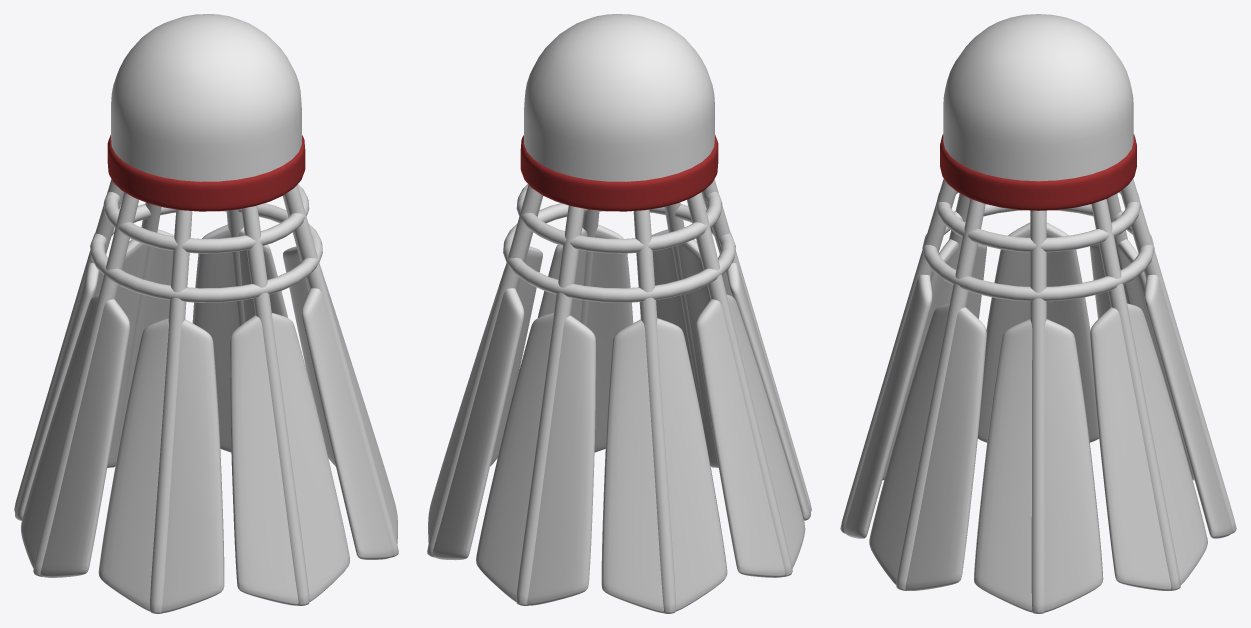
The model's file is shuttlecock.glb.
The picture shows the model from 3 angles, left to right: view 1: azimuth 30°, elevation 25°; view 2: azimuth 150°, elevation 25°; view 3: azimuth 270°, elevation 25°; orthographic projection.
Parts seen in each view (by area): view 1: Cylinder.115_19, Cube.278_0, Cube.281_3, Cube.279_1, Cube.285_7, Cylinder.001_8, Cylinder.114_18, Cube.283_5, Cylinder.108_12, Cylinder.111_15, Cube.282_4, Cylinder.112_16 (+6 smaller); view 2: Cylinder.115_19, Cube.280_2, Cube.282_4, Cube.279_1, Cube.283_5, Cylinder.001_8, Cylinder.114_18, Cube.285_7, Cylinder.105_9, Cylinder.109_13, Cube.281_3, Cylinder.112_16 (+6 smaller); view 3: Cylinder.115_19, Cube.284_6, Cube.285_7, Cube.283_5, Cube.279_1, Cylinder.001_8, Cylinder.114_18, Cube.281_3, Cube.282_4, Cylinder.110_14, Cylinder.106_10, Cylinder.107_11 (+4 smaller).
Part boxes in pixels (x1,y1,x2,y2): Cylinder.115_19: [111, 14, 301, 181]; Cube.278_0: [98, 318, 224, 612]; Cube.281_3: [230, 313, 349, 605]; Cube.279_1: [21, 294, 129, 577]; Cube.285_7: [301, 285, 397, 559]; Cylinder.001_8: [90, 184, 322, 302]; Cylinder.114_18: [107, 135, 305, 211]; Cube.283_5: [192, 224, 288, 452]; Cylinder.108_12: [149, 209, 192, 613]; Cylinder.111_15: [241, 205, 309, 605]; Cube.282_4: [107, 229, 174, 467]; Cylinder.112_16: [33, 192, 138, 576]; Cylinder.115_19: [524, 14, 714, 181]; Cube.280_2: [601, 318, 727, 612]; Cube.282_4: [476, 313, 595, 605]; Cube.279_1: [696, 294, 805, 577]; Cube.283_5: [428, 285, 524, 560]; Cylinder.001_8: [503, 184, 735, 302]; Cylinder.114_18: [520, 135, 718, 211]; Cube.285_7: [537, 224, 633, 452]; Cylinder.105_9: [633, 209, 676, 613]; Cylinder.109_13: [516, 205, 584, 605]; Cube.281_3: [651, 229, 718, 467]; Cylinder.112_16: [687, 192, 792, 576]; Cylinder.115_19: [943, 14, 1133, 181]; Cube.284_6: [974, 319, 1103, 612]; Cube.285_7: [869, 303, 986, 590]; Cube.283_5: [1090, 303, 1207, 590]; Cube.279_1: [978, 222, 1099, 442]; Cylinder.001_8: [922, 192, 1154, 301]; Cylinder.114_18: [940, 134, 1136, 210]; Cube.281_3: [844, 274, 932, 538]; Cube.282_4: [1144, 274, 1232, 538]; Cylinder.110_14: [1030, 210, 1046, 613]; Cylinder.106_10: [1091, 199, 1180, 590]; Cylinder.107_11: [896, 199, 985, 590].
Size of the model in its own units: 0.3711 by 0.527 by 0.3711.
